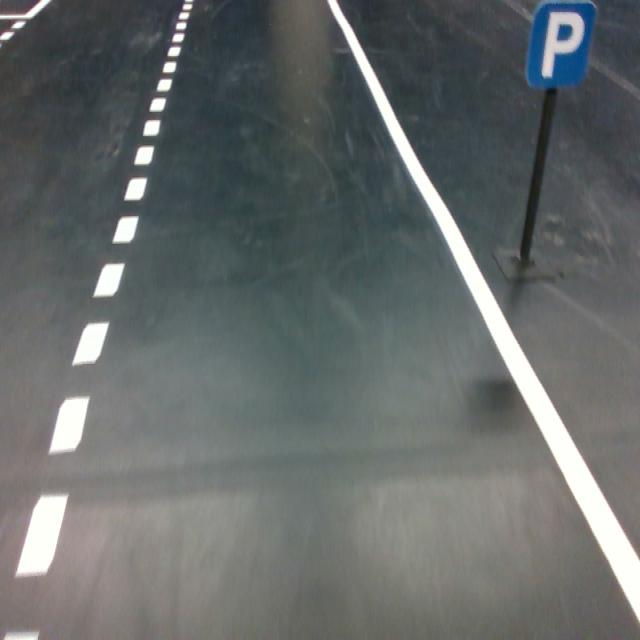parking-sign: (524, 0, 597, 89)
